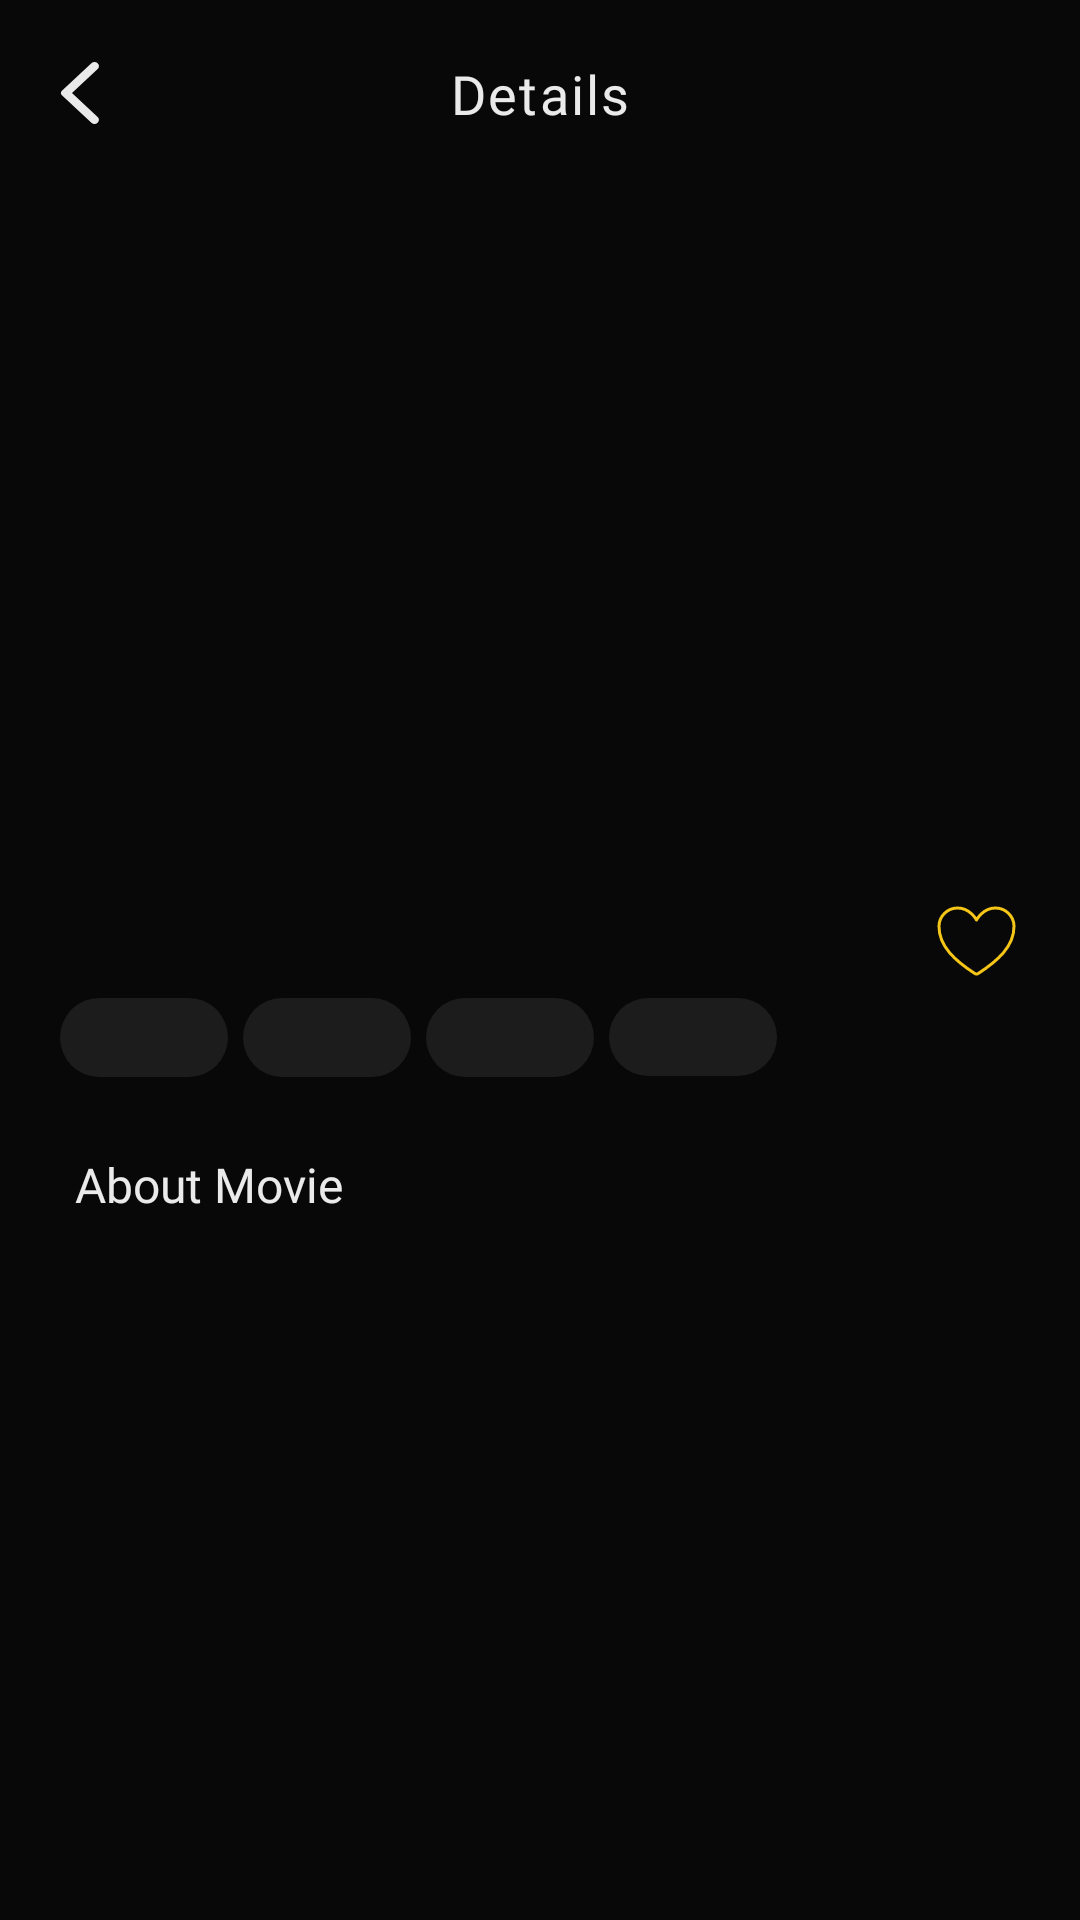

Where to tap for icons on this 1080w x 1920h app screen, as point (x, y):
back arrow: point (80, 93)
heart: point (976, 941)
